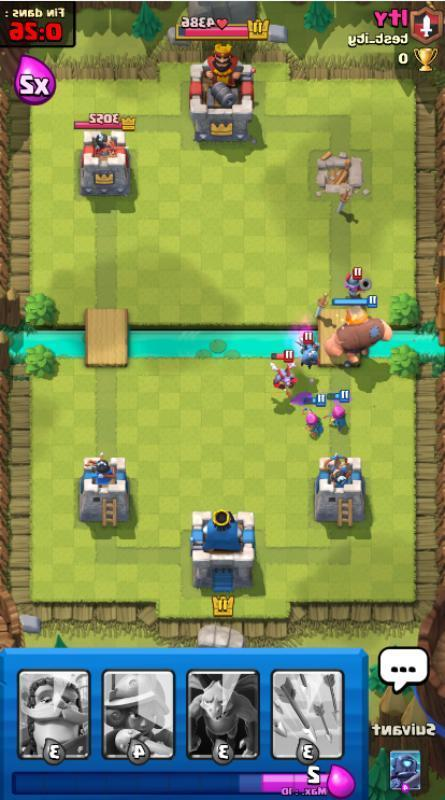enemy_minions: (267, 356, 300, 393), (291, 334, 322, 368)
enemy_musketeer: (338, 265, 372, 302)
player_archers: (292, 397, 327, 440), (325, 392, 354, 433)
player_giant: (322, 311, 395, 371)
